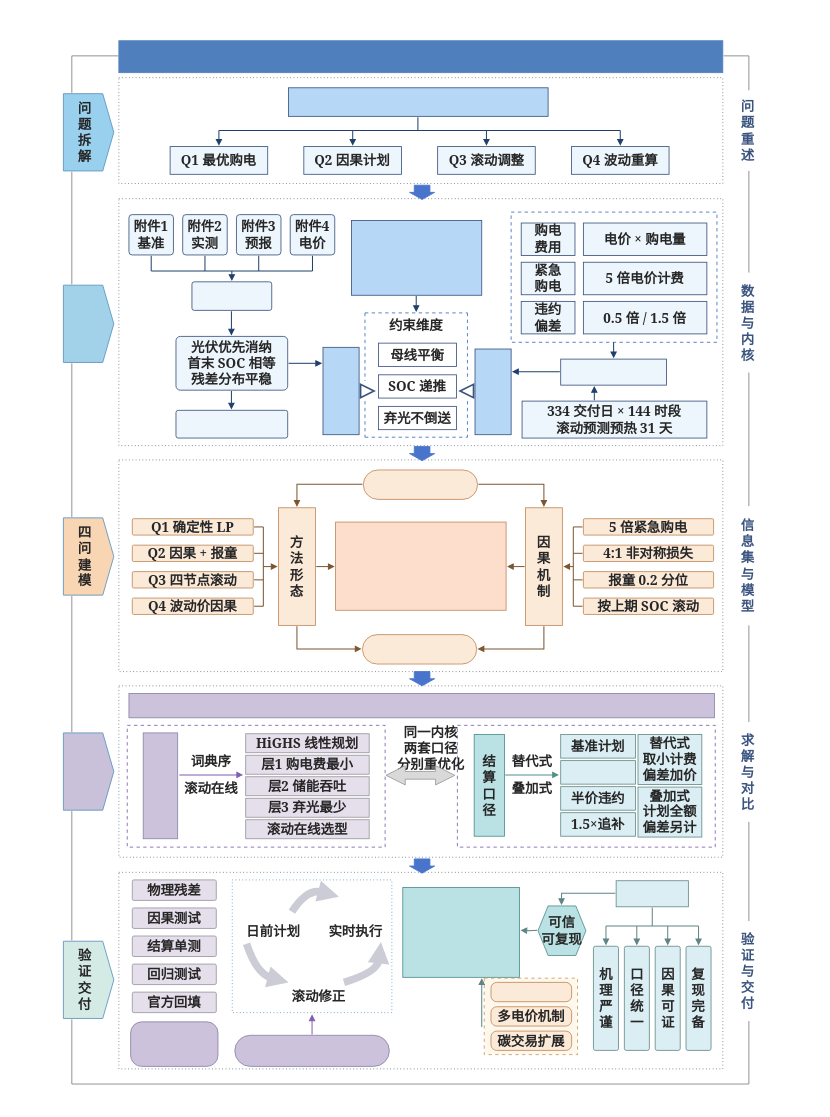
This 830x1117 diagram has some shape labels left out. The centre of each missing label's shape, as x and y in pixels:
2026 高教社杯 C 题：微网与外部电网电力调控策略技术路线图: the point at 420,56
334 交付日全量复算: the point at 311,1050
严格因果信息集: the point at 419,649
信息集分层递进 全知 → 因果 → 官方预报 → 因果电价 禁止未来信息进入决策 各期按上期实况重优化: the point at 420,565
储能扩容: the point at 531,992
全天费用最小: the point at 613,371
共享物理内核 四问同源同构 SOC 1200–10800 充放 ≤ 5000 kW: the point at 416,257
四问递进：信息集逐级收紧: the point at 418,101
完全信息基准: the point at 420,484
指 标 口 径: the point at 492,391
数 据 内 核: the point at 88,323
数 据 准 备: the point at 340,390
模型评价: the point at 651,893
求 解 算 法: the point at 160,785
求 解 结 算: the point at 88,771
求解与结算：HiGHS 线性规划，词典序最小化购电费→储能吞吐→弃光: the point at 421,705
符号与口径定义: the point at 231,424
解析与校验: the point at 231,295
调整计划: the point at 597,772
逐格比对 1e-7 以内: the point at 174,1043
验证与交付 残差校验归零 因果泄漏零容忍 结算 / 回归单测 官方 Excel 回填: the point at 461,932
